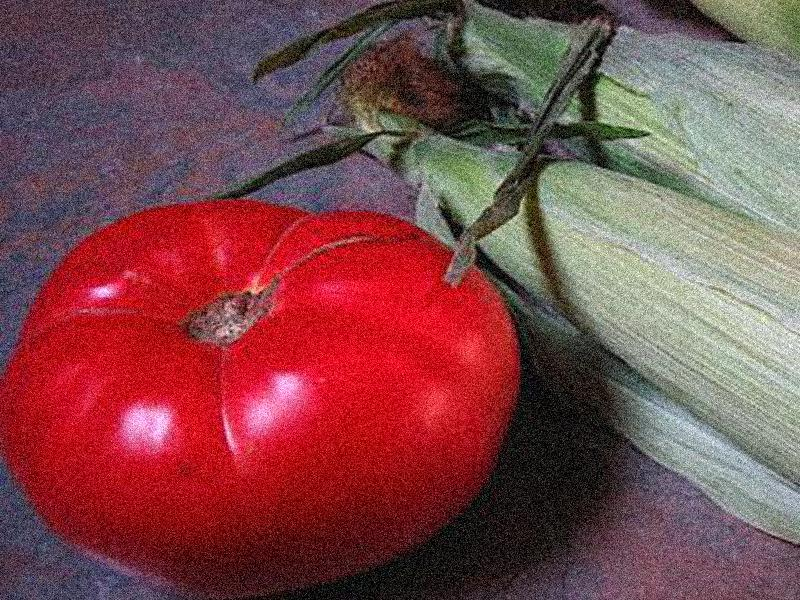Tomato: (4, 199, 518, 594)
